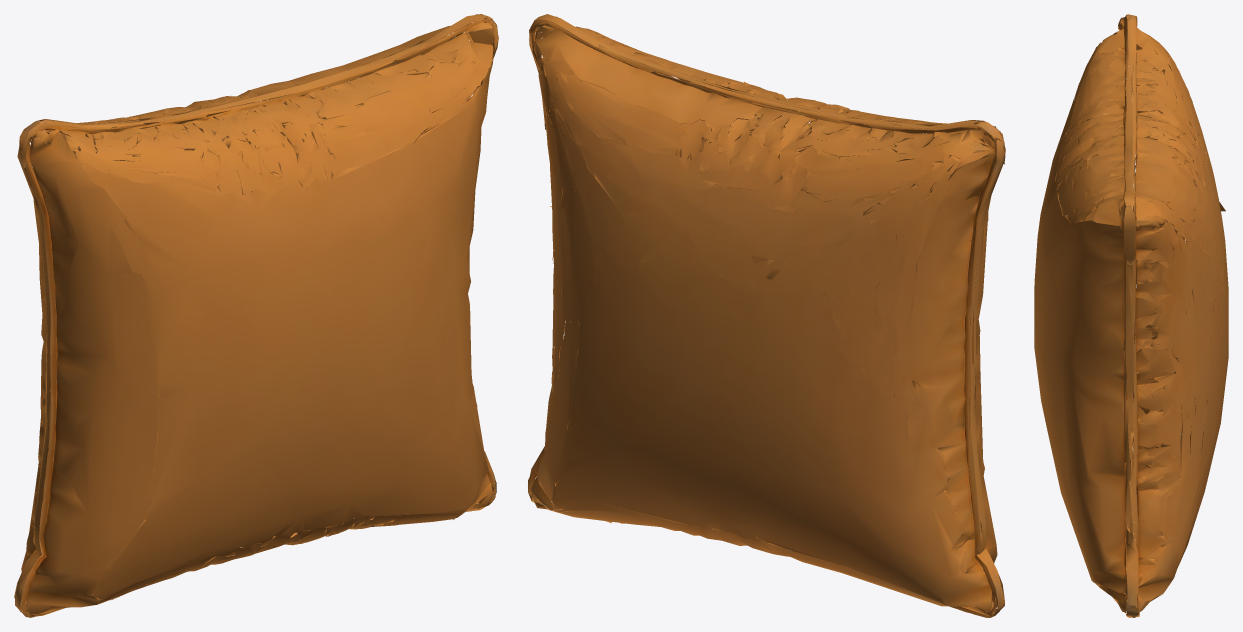
File: cushion-orange.glb
The picture shows the model from 3 angles, left to right: view 1: azimuth 30°, elevation 25°; view 2: azimuth 150°, elevation 25°; view 3: azimuth 270°, elevation 25°; orthographic projection. The views are drawn at different scales.
Parts seen in each view (by area): view 1: material; view 2: material; view 3: material.
Part boxes in pixels (x1,y1,x2,y2): material: (14, 14, 498, 617); material: (528, 14, 1005, 617); material: (1034, 14, 1228, 617).
Size of the model in its own units: 0.8691 by 0.8623 by 0.3626.
Materials: 1 (1 with a texture image).
